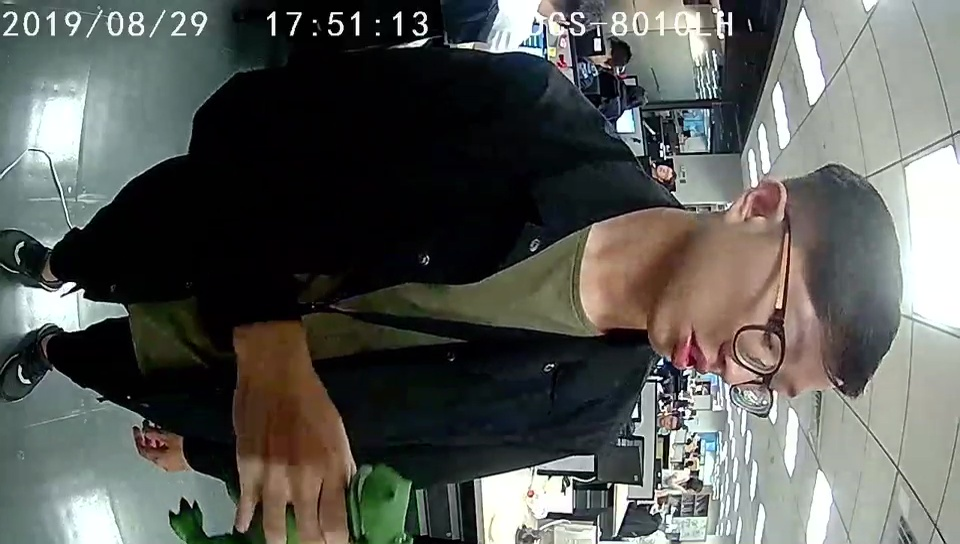rex: (164, 457, 420, 544)
